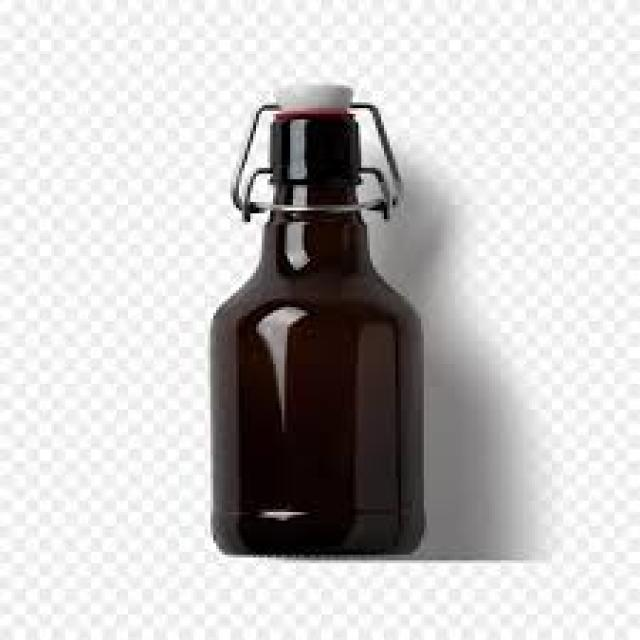Glass: (208, 119, 430, 564)
